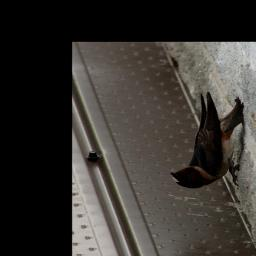Swallow: (170, 91, 247, 189)
